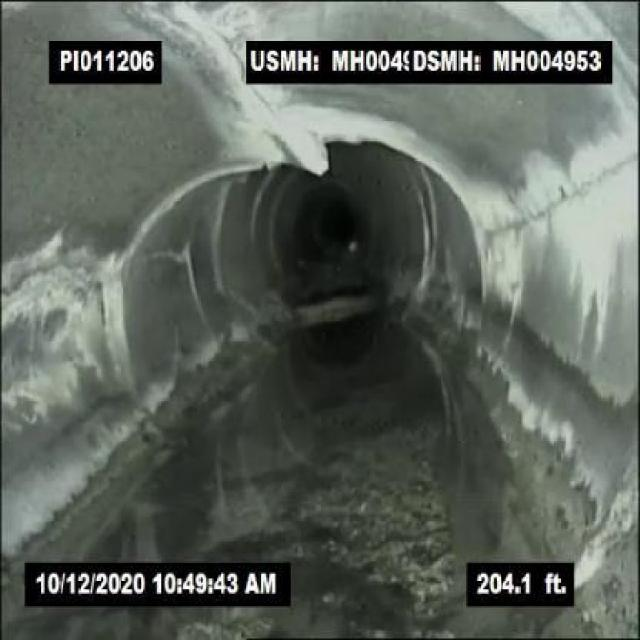Buckling: (194, 92, 378, 202)
Crack: (554, 142, 635, 220)
